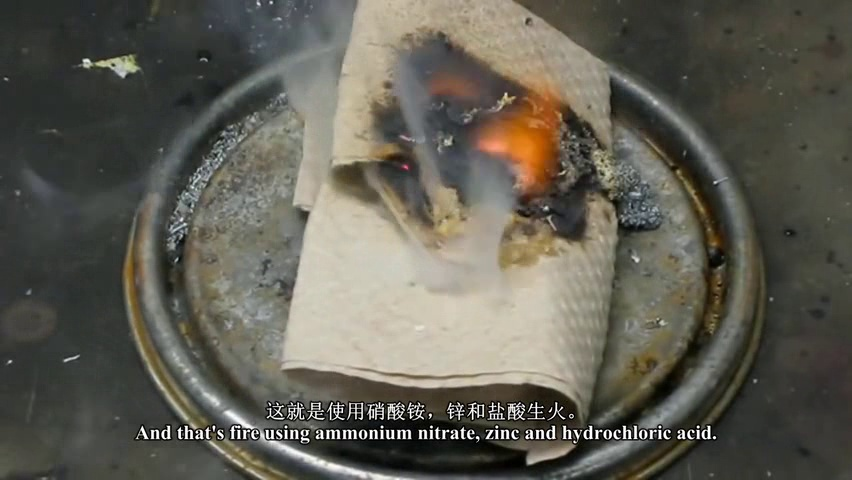fire: (459, 65, 574, 212)
